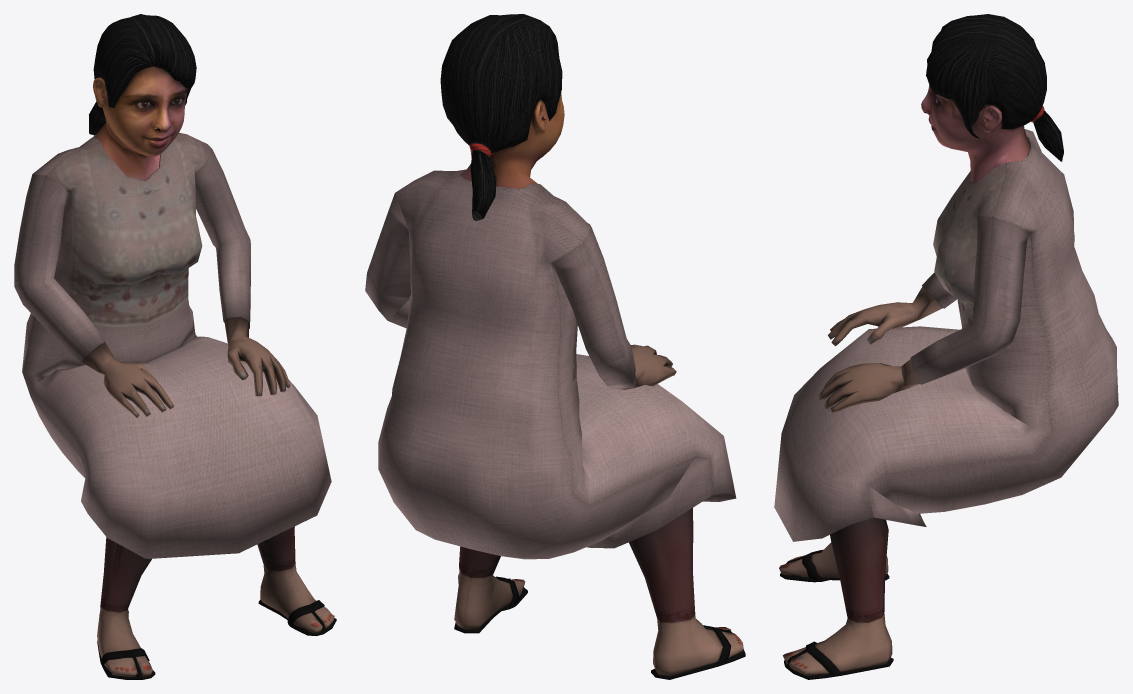
File: minakshi_sitting.glb
3 renders of one model, left to right at view 1: azimuth 30°, elevation 25°; view 2: azimuth 150°, elevation 25°; view 3: azimuth 270°, elevation 25°, orthographic. The views are drawn at different scales.
Visible parts, largest first — view 1: F_Feet_BaseMesh; view 2: F_Feet_BaseMesh; view 3: F_Feet_BaseMesh.
Part boxes in pixels (<box>): F_Feet_BaseMesh: <box>14,14,336,679</box>; F_Feet_BaseMesh: <box>365,14,745,679</box>; F_Feet_BaseMesh: <box>774,14,1118,679</box>.
Size of the model in its own units: 0.6493 by 1.47 by 0.7612.
Materials: 2 (2 with a texture image).
